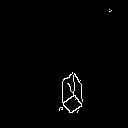cube: (47, 69, 91, 119)
